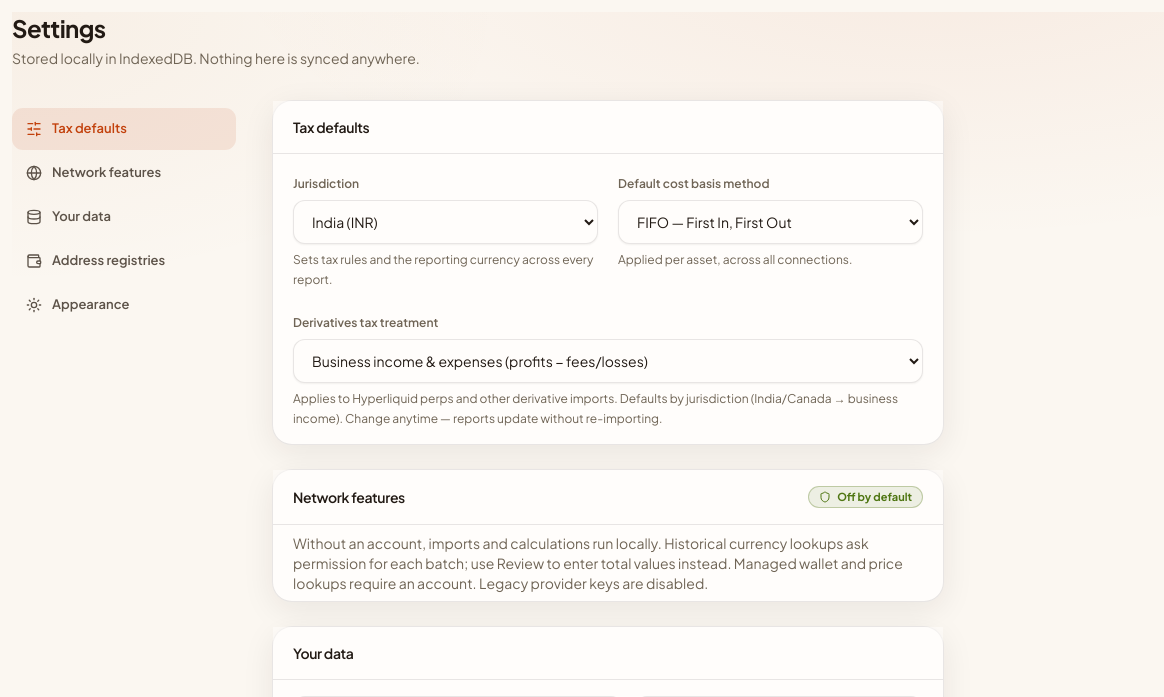
it: SettingsTab — section styling hooks › confirms a settings change with a "Settings saved" toast
Select "United States (USD)" in the dropdown labelled "Jurisdiction": coordinates (446, 222) [293,200,598,244]
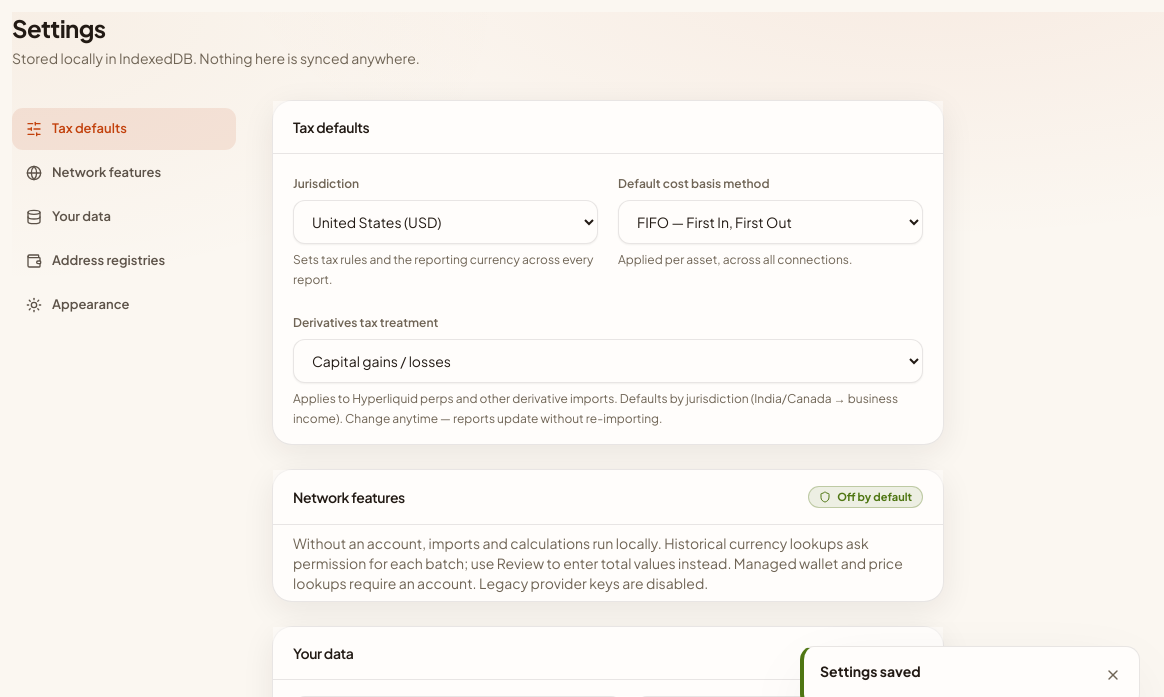
Now the text "Settings saved" is shown, box [820,662,921,680]
